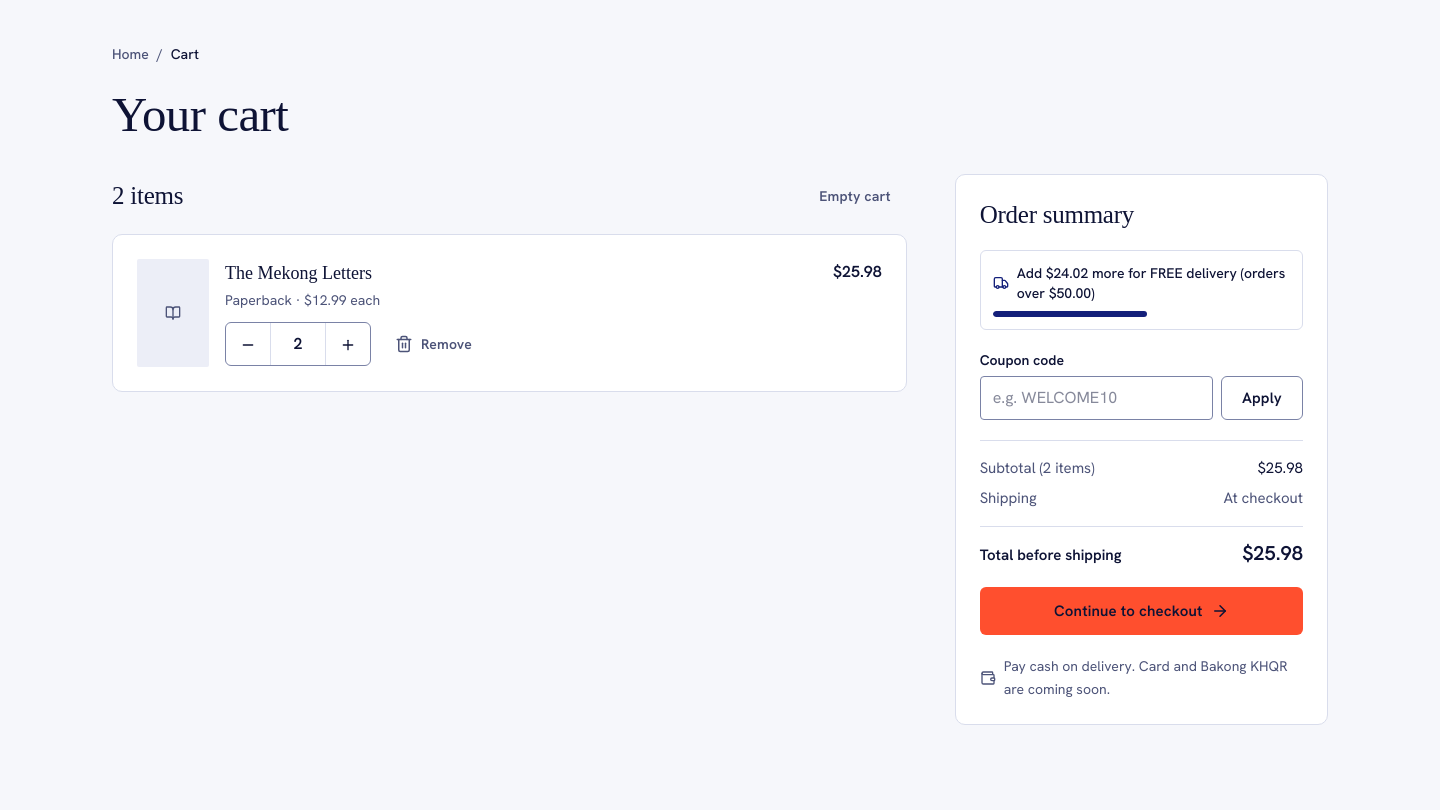
Test: CartPage › applies a coupon and shows the discount
This screenshot has width=1440, height=810.
Step 1. Type "welcome10" into the field labelled "Coupon code" → (1096, 398), box [980,376,1213,420]
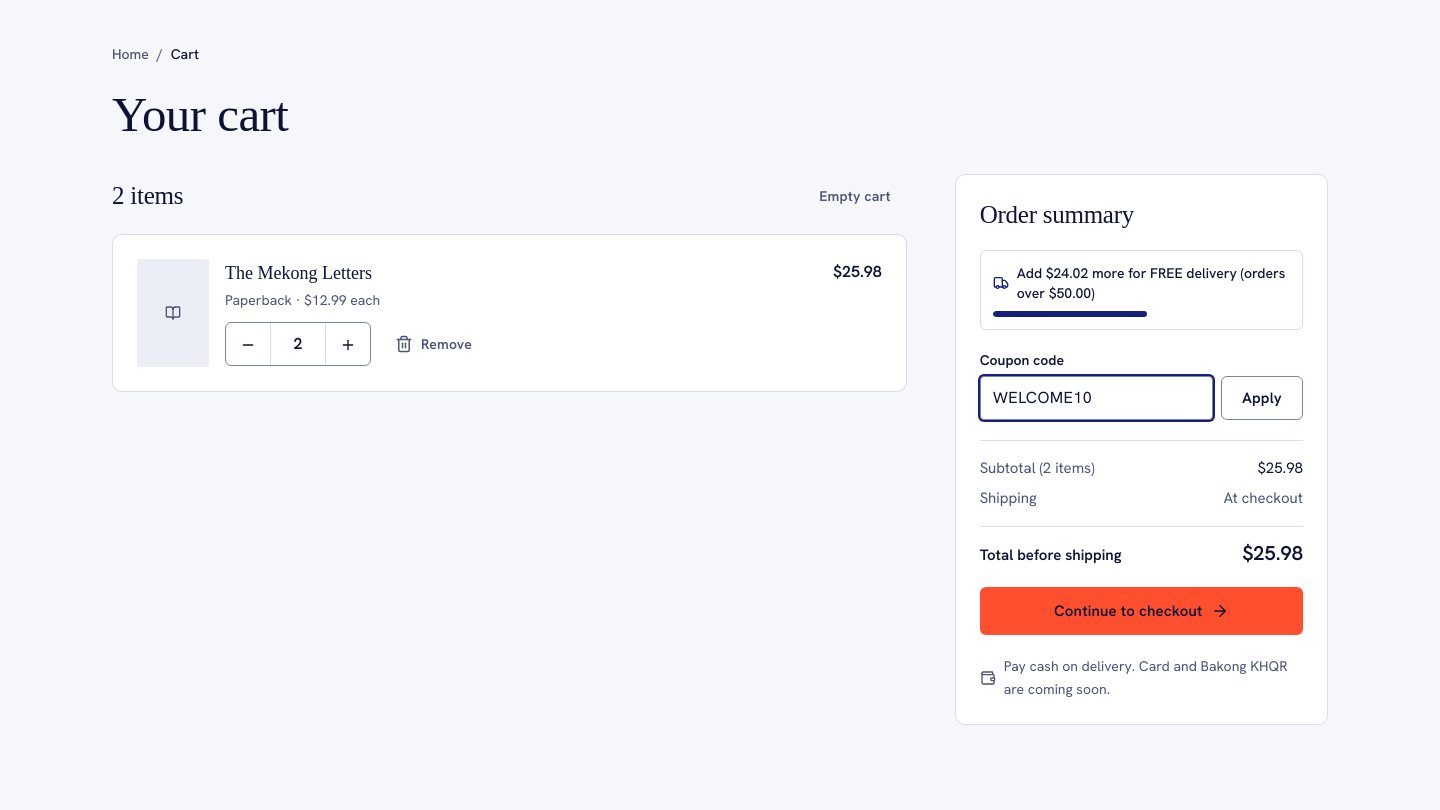
Step 2. Click the button "Apply" → click(1262, 398), box [1221,376,1303,420]
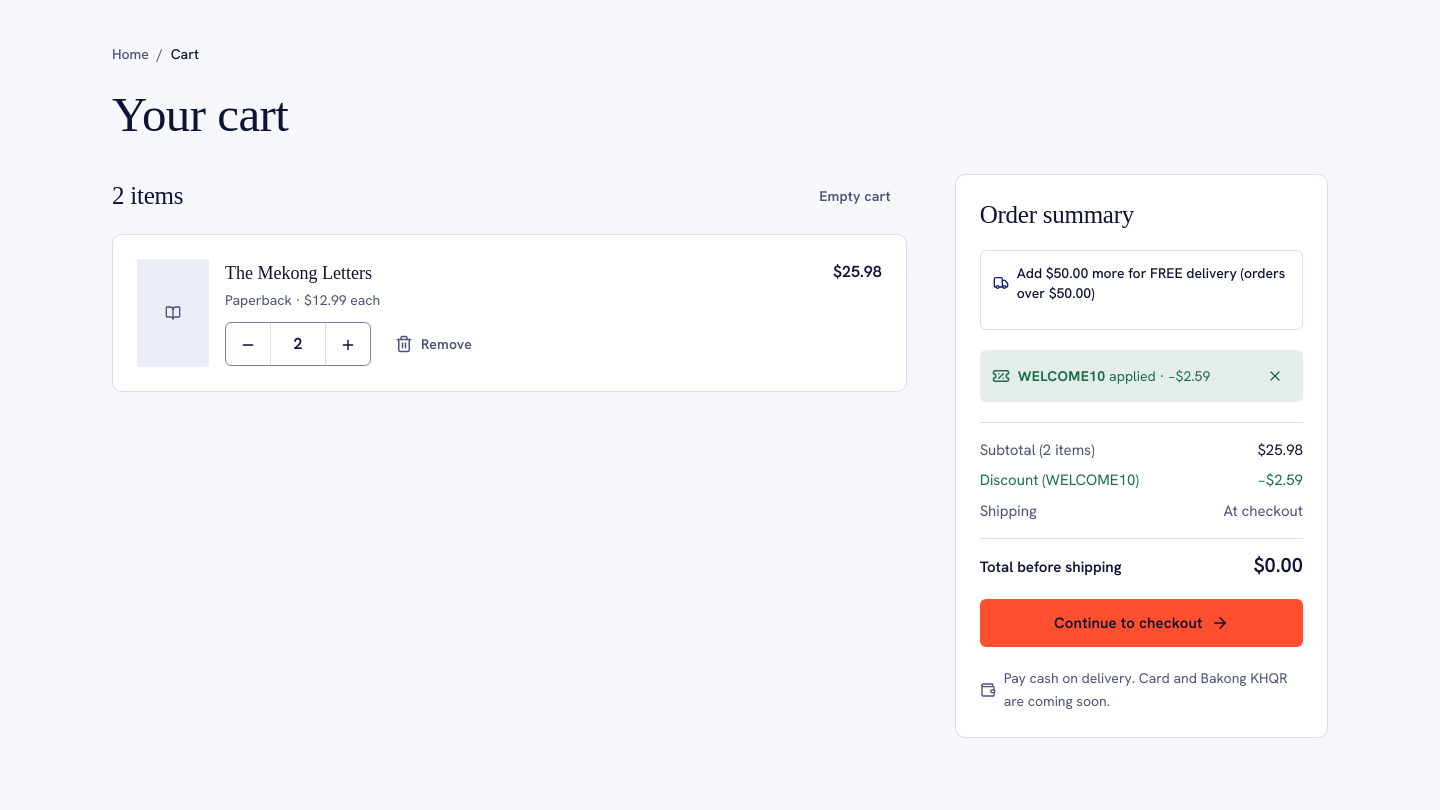
Expected: the text "WELCOME10 applied · −$2.59" is shown, [1018,366,1210,386]
Expected: the text "WELCOME10" is shown, [1018,367,1106,385]
